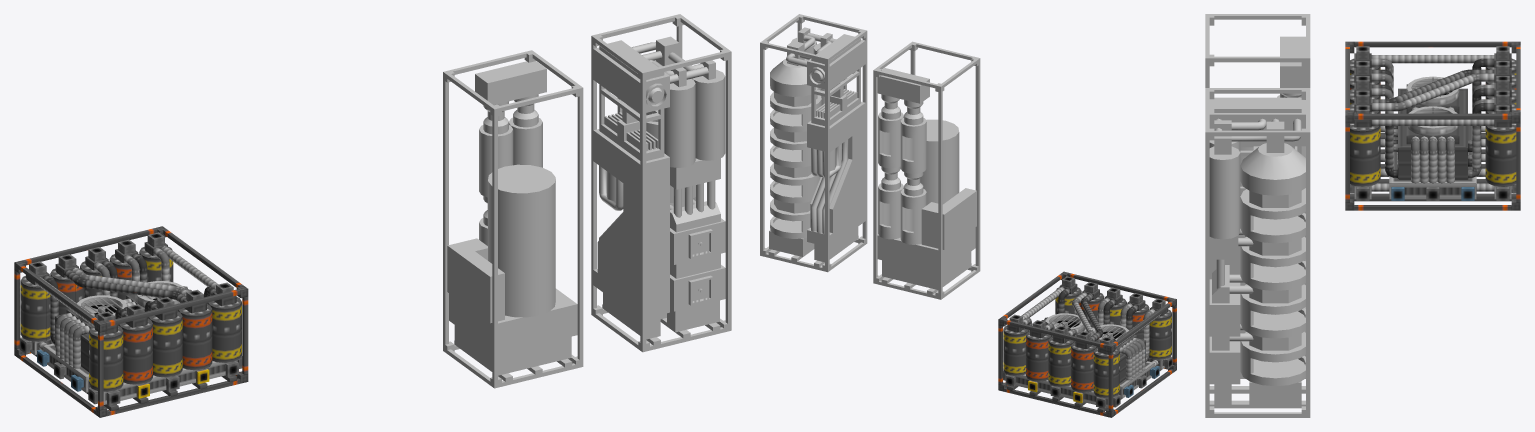
The model's file is chemical_factory.obj.
3 renders of one model, left to right at view 1: azimuth 30°, elevation 25°; view 2: azimuth 150°, elevation 25°; view 3: azimuth 270°, elevation 25°, orthographic. The views are drawn at different scales.
Visible parts, largest first — view 1: Plane.001, Base, Frame; view 2: Plane.001, Base, Frame; view 3: Plane.001, Base, Frame.
Boxes of the visible parts, x1=… form: Plane.001: x1=443, y1=14, x2=731, y2=388; Base: x1=14, y1=232, x2=248, y2=417; Frame: x1=14, y1=226, x2=248, y2=409; Plane.001: x1=760, y1=14, x2=980, y2=299; Base: x1=998, y1=276, x2=1176, y2=417; Frame: x1=998, y1=271, x2=1176, y2=411; Plane.001: x1=1205, y1=14, x2=1310, y2=417; Base: x1=1345, y1=46, x2=1520, y2=210; Frame: x1=1345, y1=41, x2=1520, y2=202.
Size of the model in its own units: 19 by 9 by 9.
